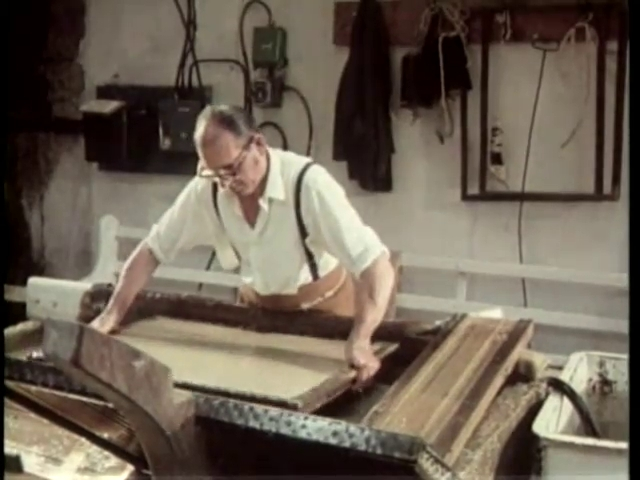person: (89, 104, 394, 389)
